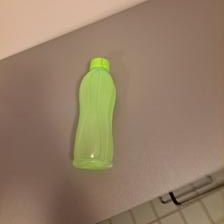bottle: (67, 54, 118, 173)
